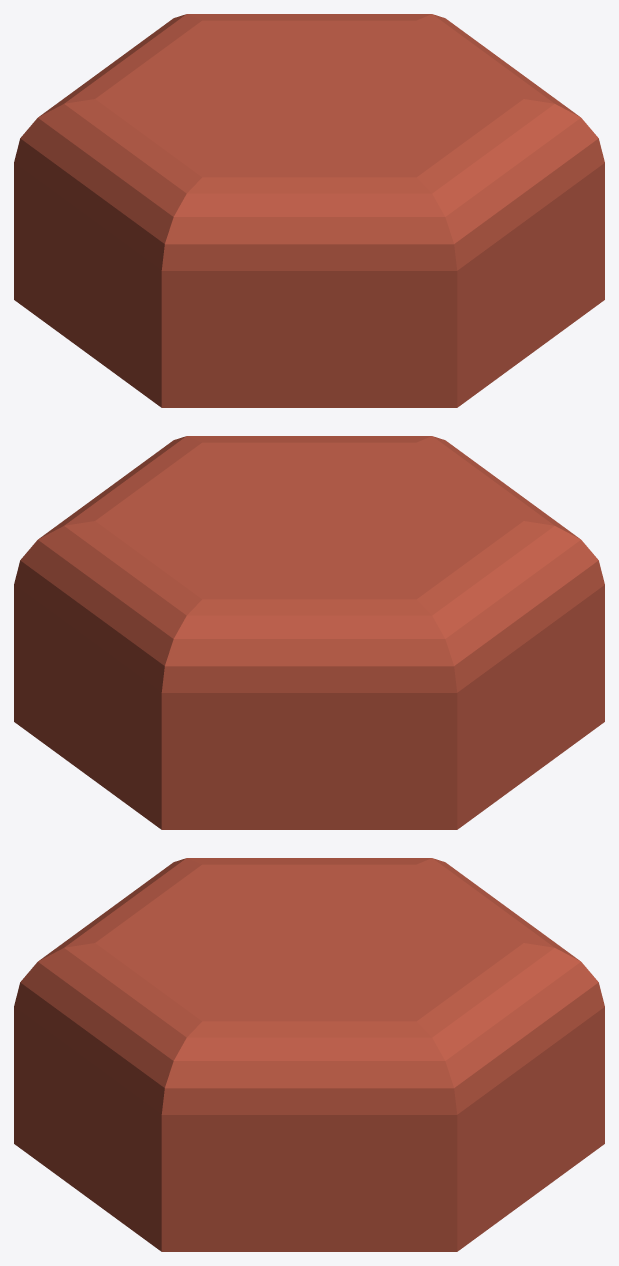
Rendered from Arkanoid_Assets_Copper.fbx.
3 views of the same model, one above another, from view 1: azimuth 30°, elevation 25°; view 2: azimuth 150°, elevation 25°; view 3: azimuth 270°, elevation 25° (orthographic).
Parts seen in each view (by area): view 1: Puntos01; view 2: Puntos01; view 3: Puntos01.
Boxes of the visible parts, box(x1,y1,x2,y2) form: Puntos01: box(14, 14, 604, 407); Puntos01: box(14, 436, 604, 829); Puntos01: box(14, 858, 604, 1251).
Size of the model in its own units: 346 by 150 by 400.
